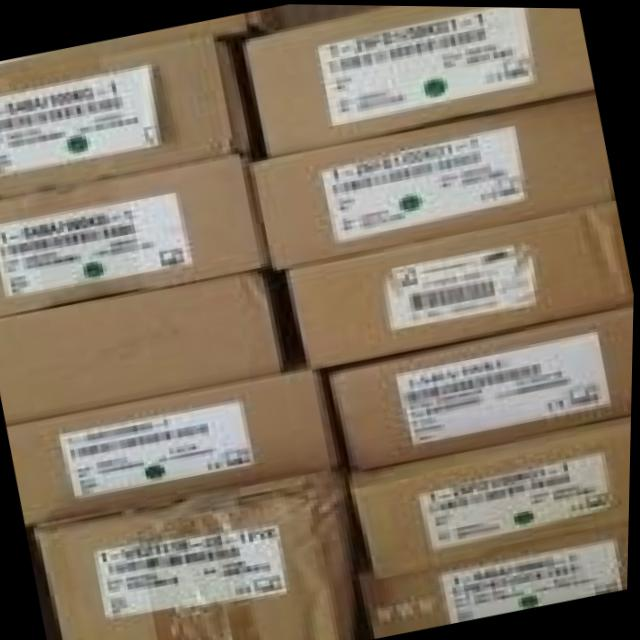box: (249, 90, 616, 270), (286, 201, 635, 368), (36, 470, 362, 640), (8, 367, 340, 526), (243, 5, 595, 154), (326, 304, 635, 466), (352, 414, 633, 578), (0, 154, 270, 319), (0, 272, 286, 424), (0, 33, 251, 197), (362, 525, 631, 637), (0, 5, 283, 73)
